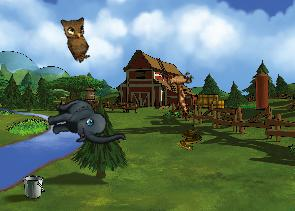eagle: (150, 58, 209, 116)
elephant: (43, 87, 126, 161)
owl: (55, 10, 102, 64)
